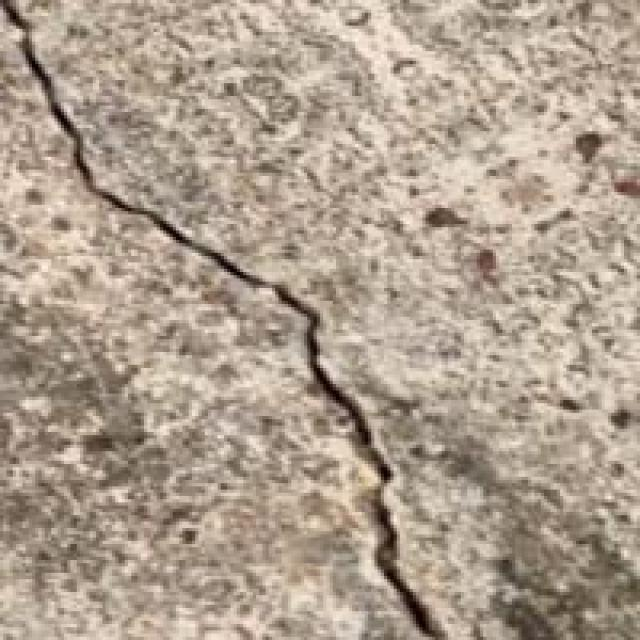Crack: (3, 6, 451, 637)
